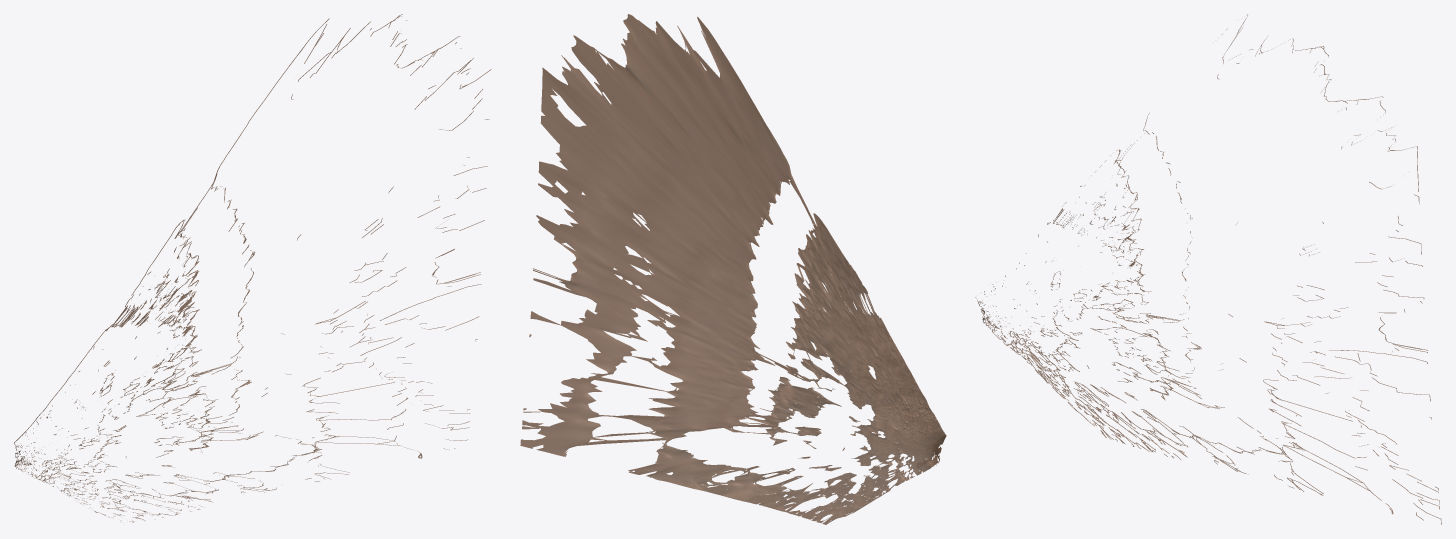
3 views of the same model, side by side, from view 1: azimuth 30°, elevation 25°; view 2: azimuth 150°, elevation 25°; view 3: azimuth 330°, elevation 25° (orthographic). The views are drawn at different scales.
Size of the model in its own units: 54.75 by 55.66 by 6.77.
Materials: 1 (1 with a texture image).
